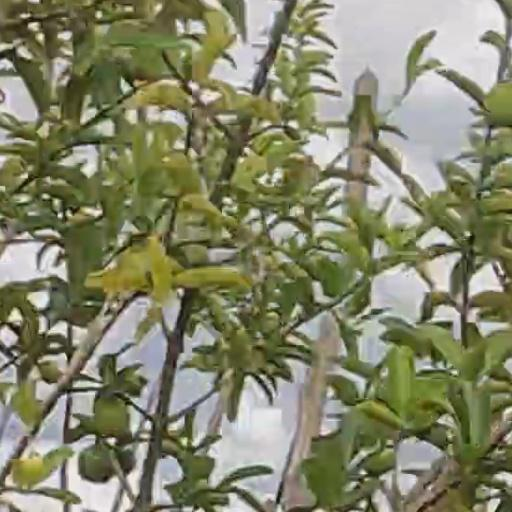acerola_verde: (96, 401, 128, 434), (490, 81, 512, 124), (81, 446, 108, 478)
